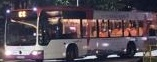bus: (15, 9, 29, 17)
